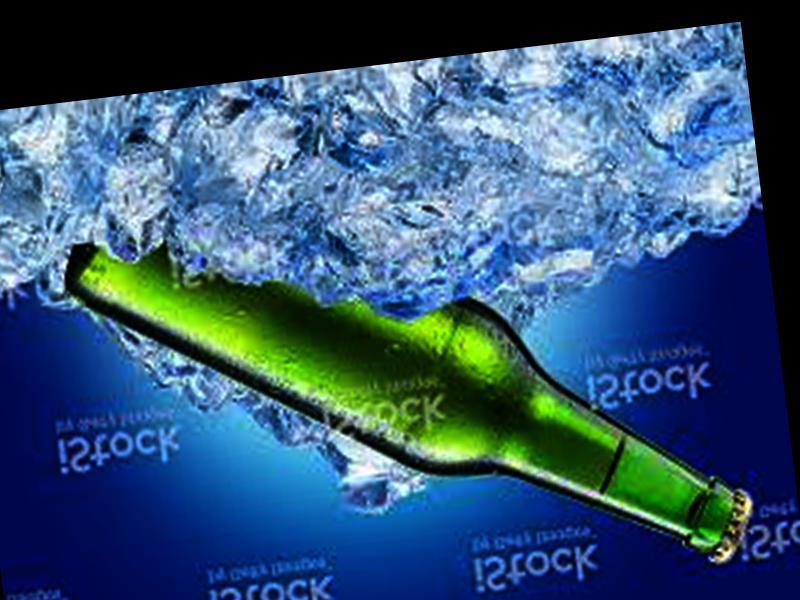Beer: (58, 167, 766, 600)
